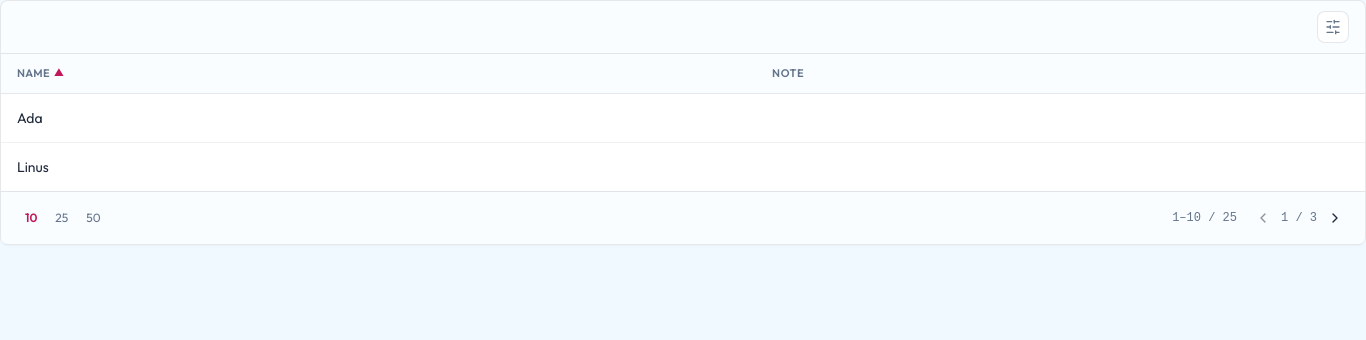
Test case: DataTable auto-refresh status chip (K-55) › clicking the chip refreshes now and resets the countdown
Click the button named "table settings": x=1333, y=27 [1317,11,1349,43]
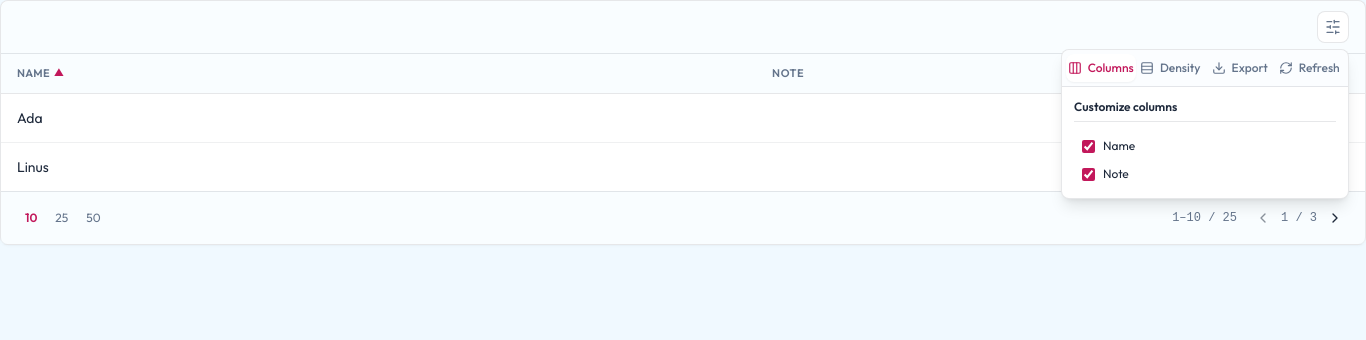
Click the button "Refresh": x=1309, y=68 [1274,54,1344,82]
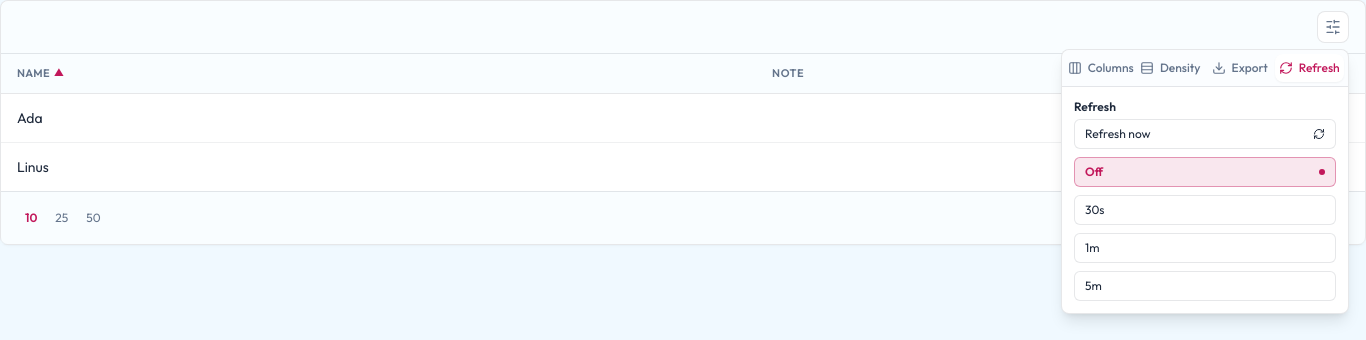
Click the button "30s": x=1095, y=210 [1074,195,1336,225]
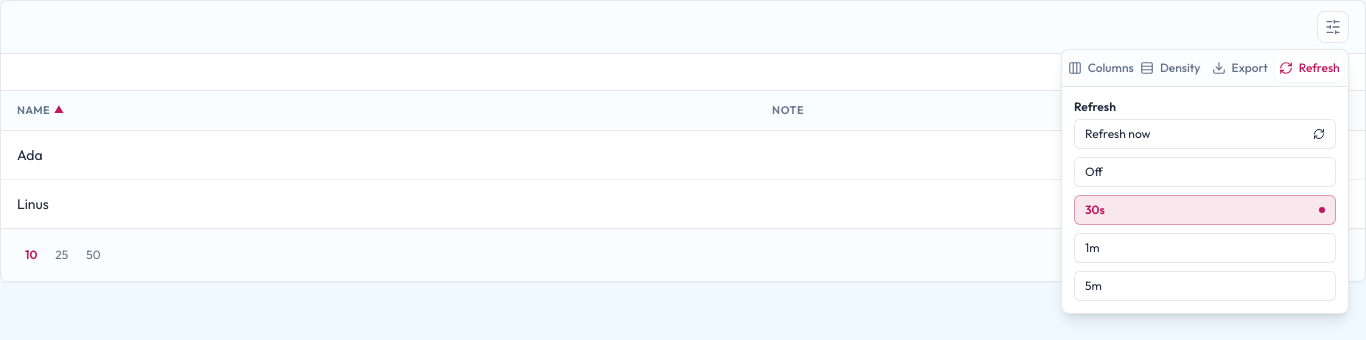
Note: Close the menu — its "Refresh now" button would collide with the chip's aria-label.
Click the button named "table settings": x=1333, y=27 [1317,11,1349,43]
Wait 10000 ms
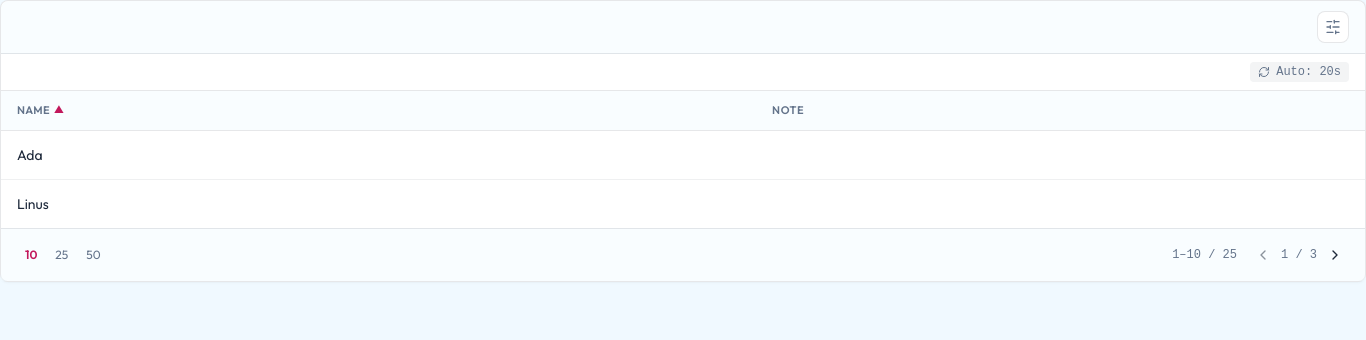
expect the text "Auto: 20s" is shown: met, box [1276,64,1341,80]
Click the button with aria-label "Refresh now": x=1300, y=72 [1250,62,1349,82]
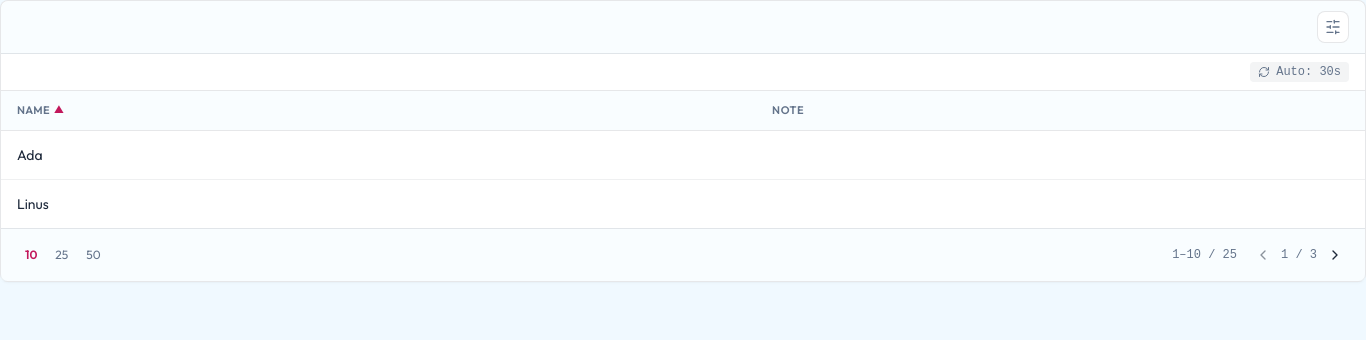
expect the text "Auto: 30s" is shown: met, box [1276,64,1341,80]
